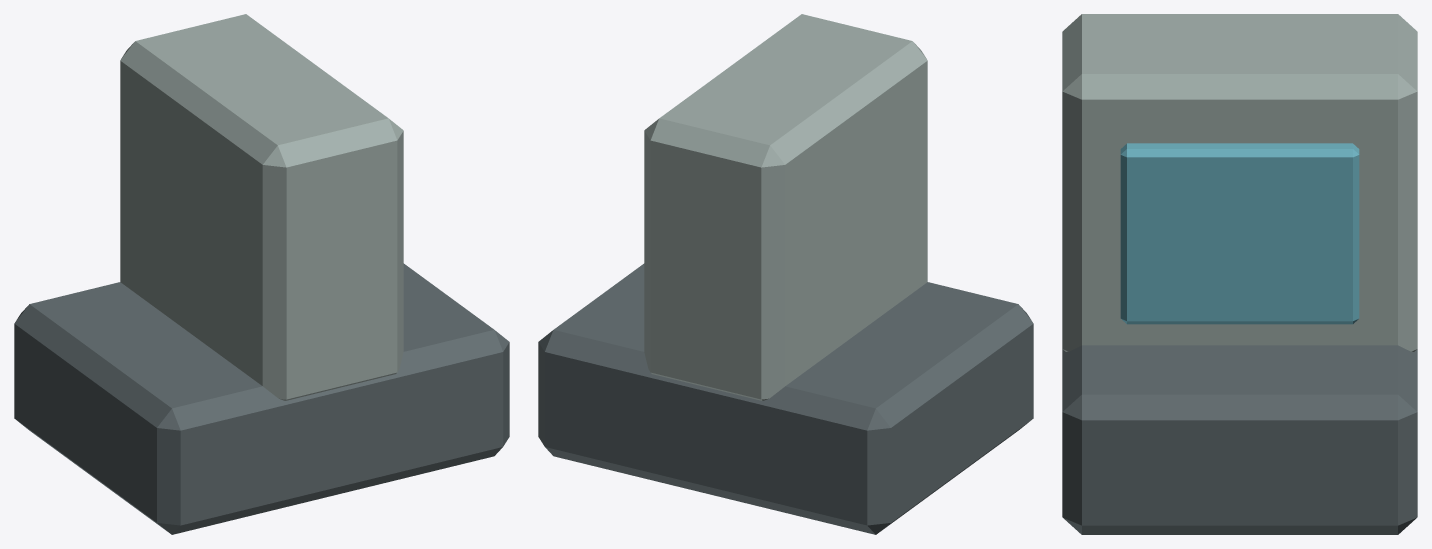
Rendered from dot.glb.
3 renders of one model, left to right at view 1: azimuth 30°, elevation 25°; view 2: azimuth 150°, elevation 25°; view 3: azimuth 270°, elevation 25°, orthographic. The views are drawn at different scales.
Parts seen in each view (by area): view 1: Sight rail; view 2: Sight rail; view 3: Sight rail.
Part boxes in pixels (left/top/right/bottom): Sight rail: left=14, top=14, right=509, bottom=534; Sight rail: left=538, top=14, right=1033, bottom=534; Sight rail: left=1062, top=14, right=1417, bottom=534.
Bounding box in the file's own units: 0.07 × 0.069 × 0.055.
